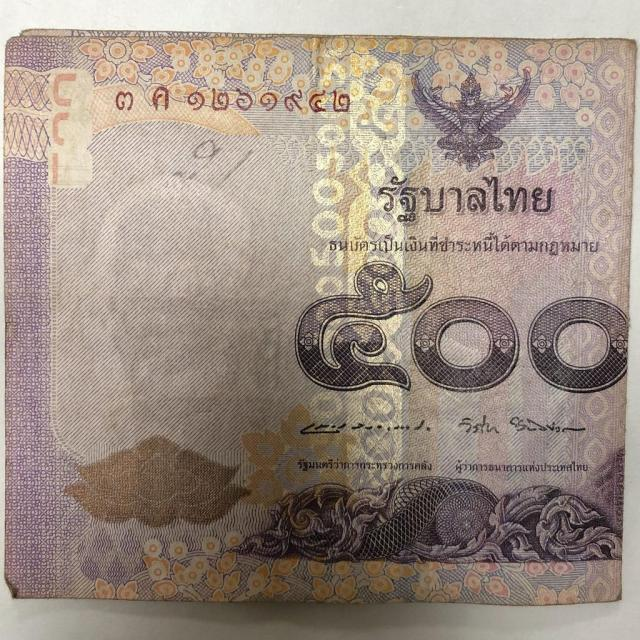THAI500: (4, 29, 639, 609)
